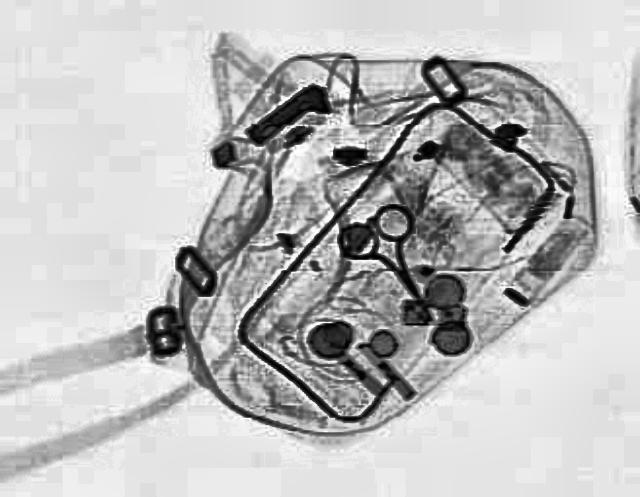Scissors: (322, 197, 462, 314)
